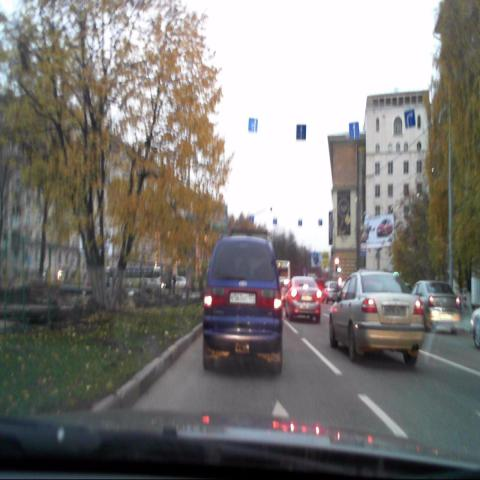5_15_2: (404, 110, 416, 130), (350, 123, 360, 139), (297, 125, 306, 140), (249, 118, 257, 132)
